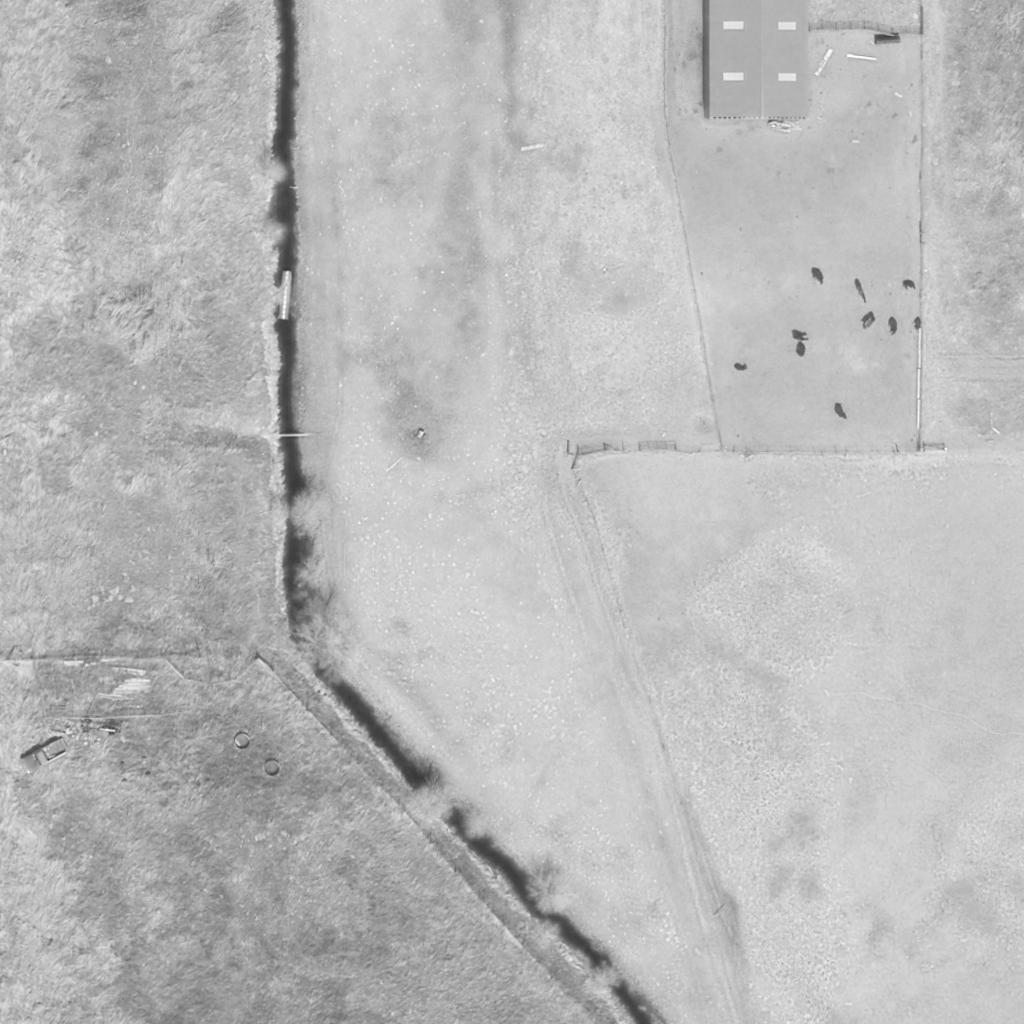vehicle: (19, 737, 69, 777)
